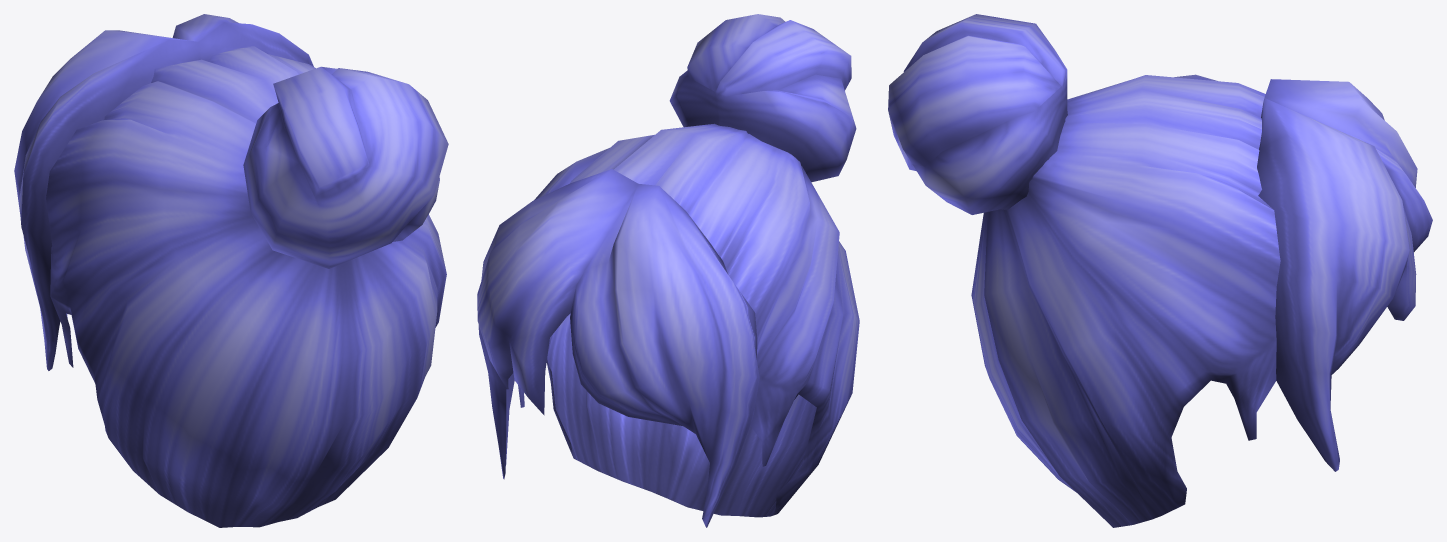
Rendered from Hair_Female_005_textured_sky.glb.
The picture shows the model from 3 angles, left to right: view 1: azimuth 30°, elevation 25°; view 2: azimuth 150°, elevation 25°; view 3: azimuth 270°, elevation 25°; orthographic projection. The views are drawn at different scales.
Parts seen in each view (by area): view 1: Hair_Female_005; view 2: Hair_Female_005; view 3: Hair_Female_005.
Part boxes in pixels (left/top/right/bottom): Hair_Female_005: left=14, top=14, right=448, bottom=527; Hair_Female_005: left=477, top=14, right=859, bottom=527; Hair_Female_005: left=888, top=14, right=1432, bottom=527.
Bounding box in the file's own units: 0.1944 × 0.2737 × 0.2809.
1 material, 1 textured.
